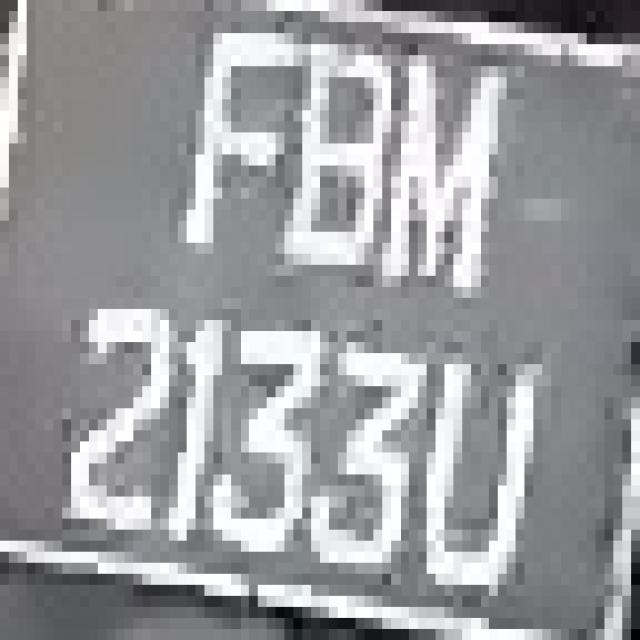1: (160, 298, 222, 585)
2: (53, 243, 151, 607)
3: (320, 309, 436, 618), (213, 298, 311, 585)
B: (285, 11, 391, 320)
F: (169, 0, 311, 298)
M: (382, 55, 524, 331)
U: (427, 342, 551, 585)
